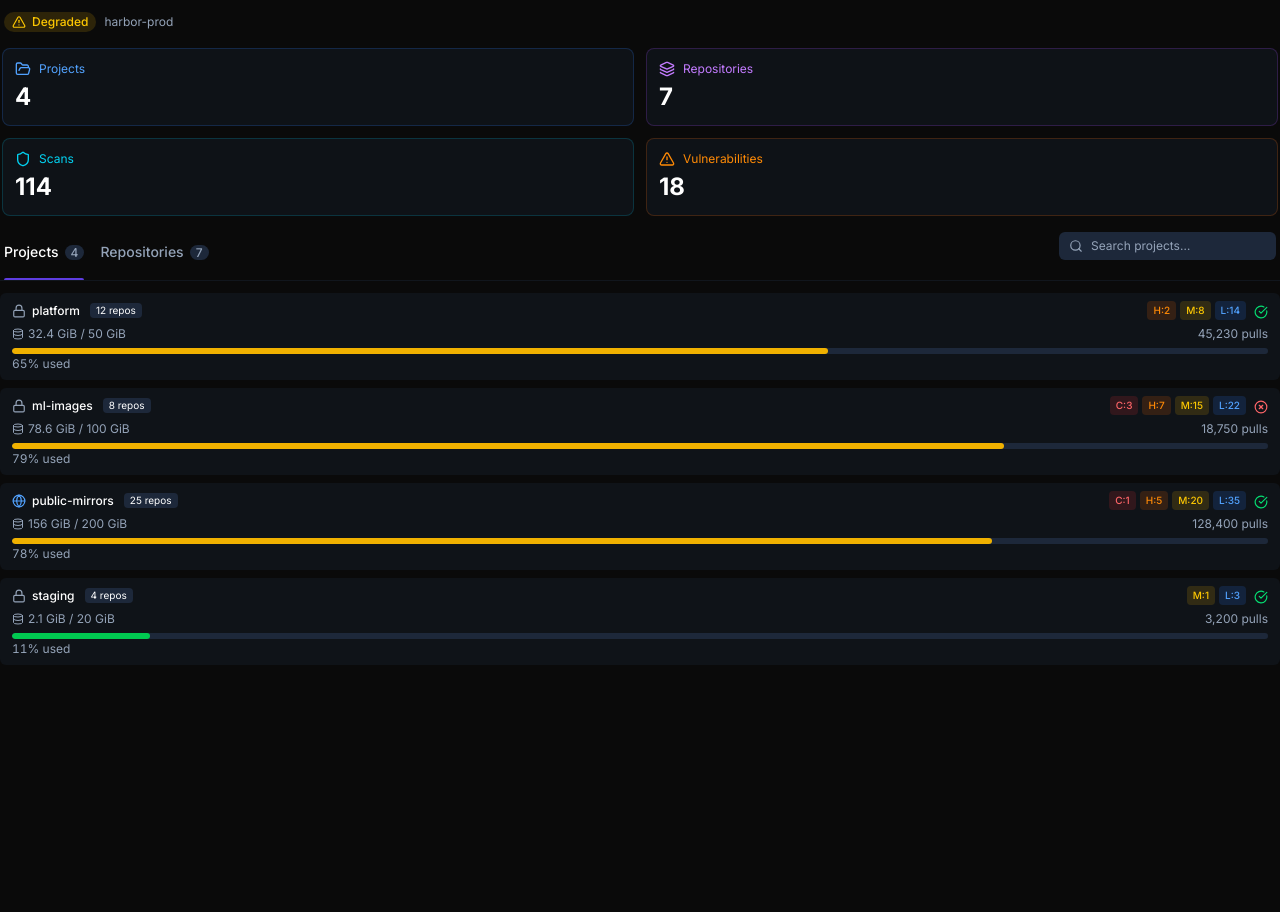
Scenario: HarborStatus › filters repositories by search term
Click the button "Repositories7" at coordinates (154, 256), box [100,232,208,280]
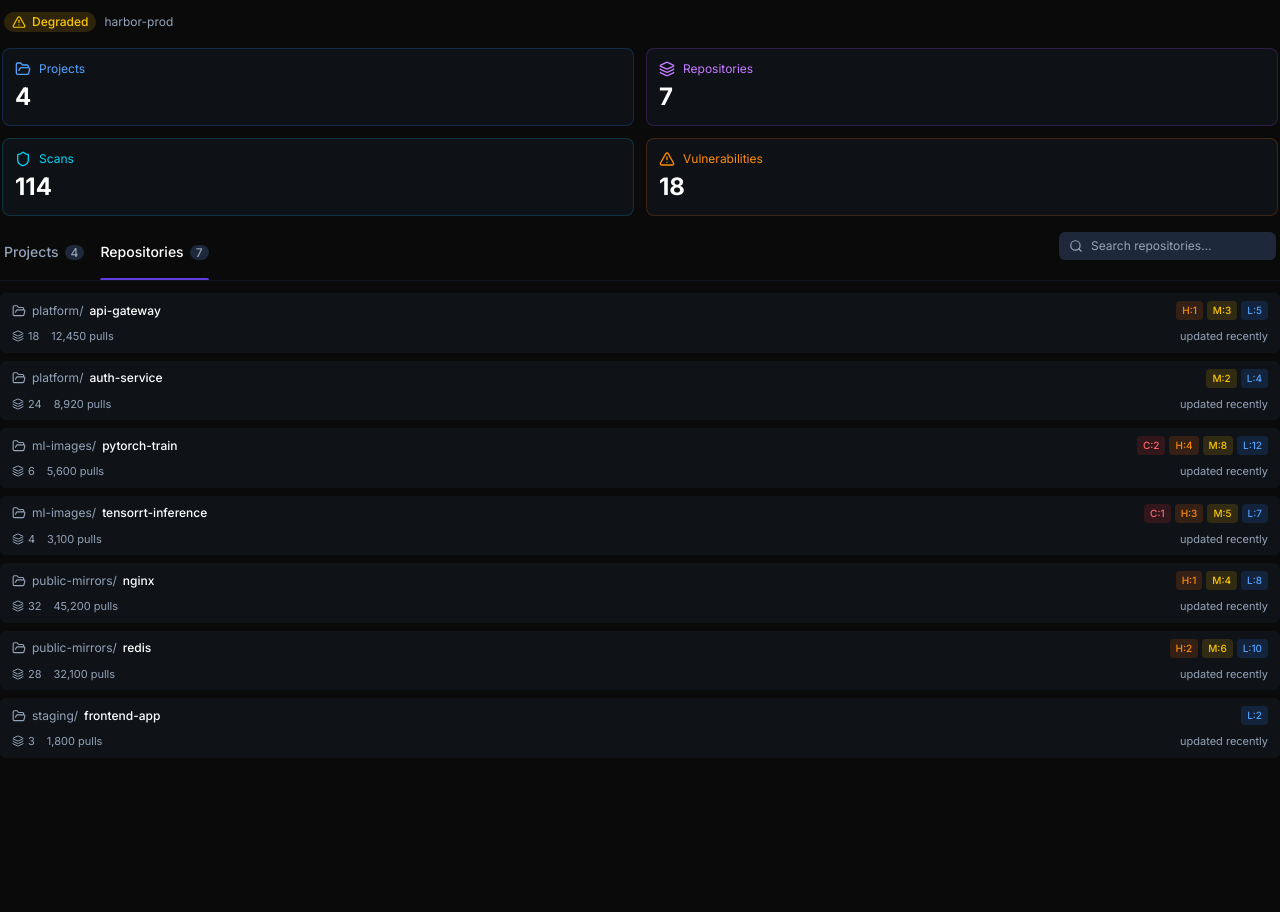
Type "nonexistent-repo-xyz" into the field with placeholder "Search repositories…" at coordinates (1168, 246), box [1059,232,1276,260]
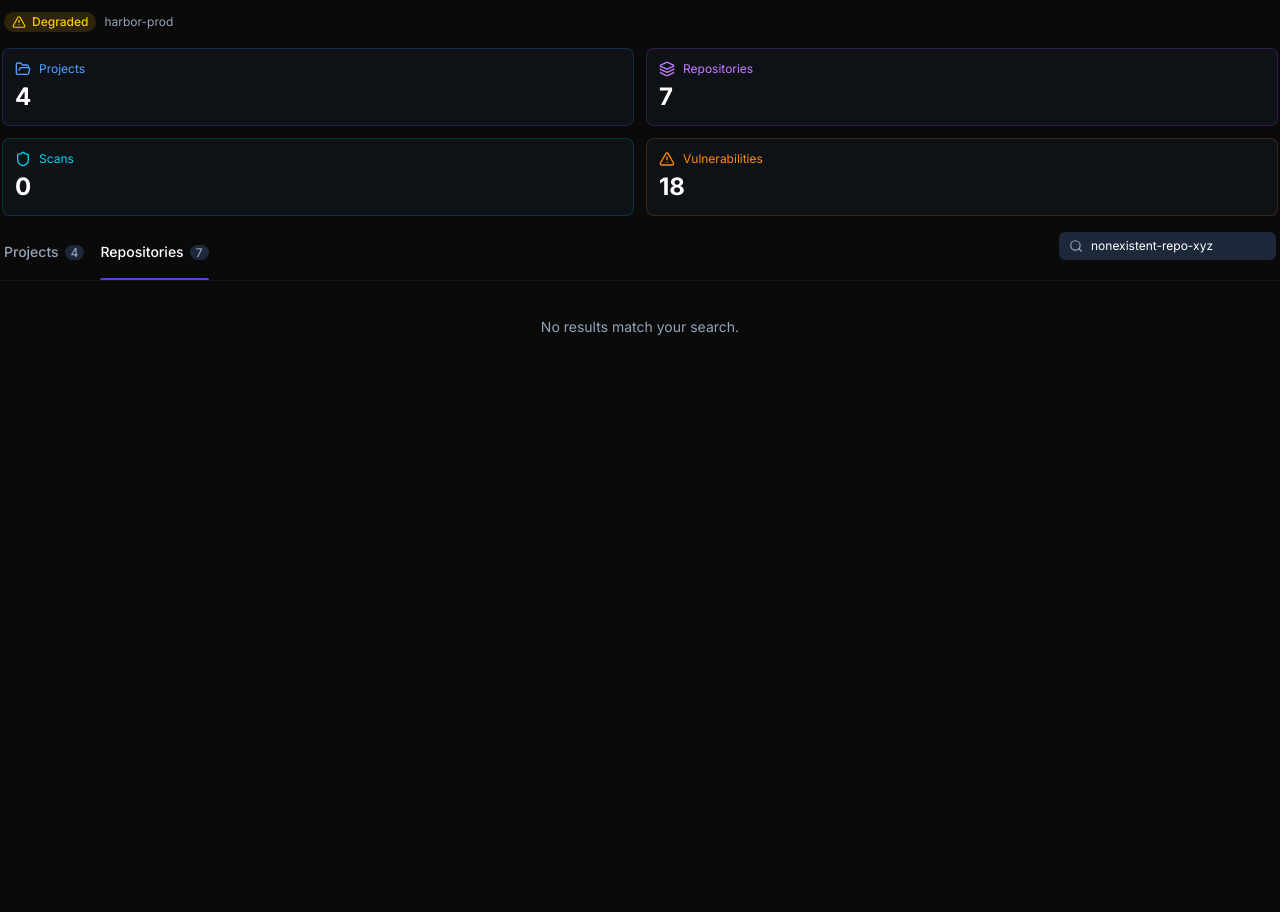
Result: the text "No results match your search." is shown at [541,318,739,335]
